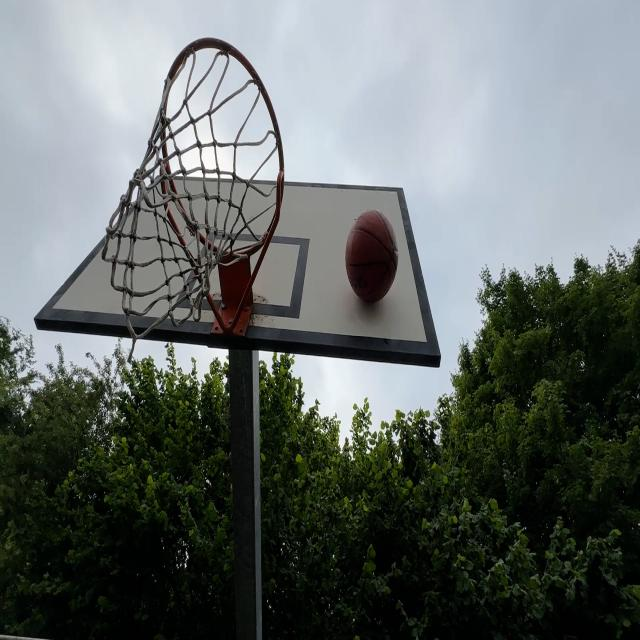rebound_hit: (344, 209, 399, 316)
